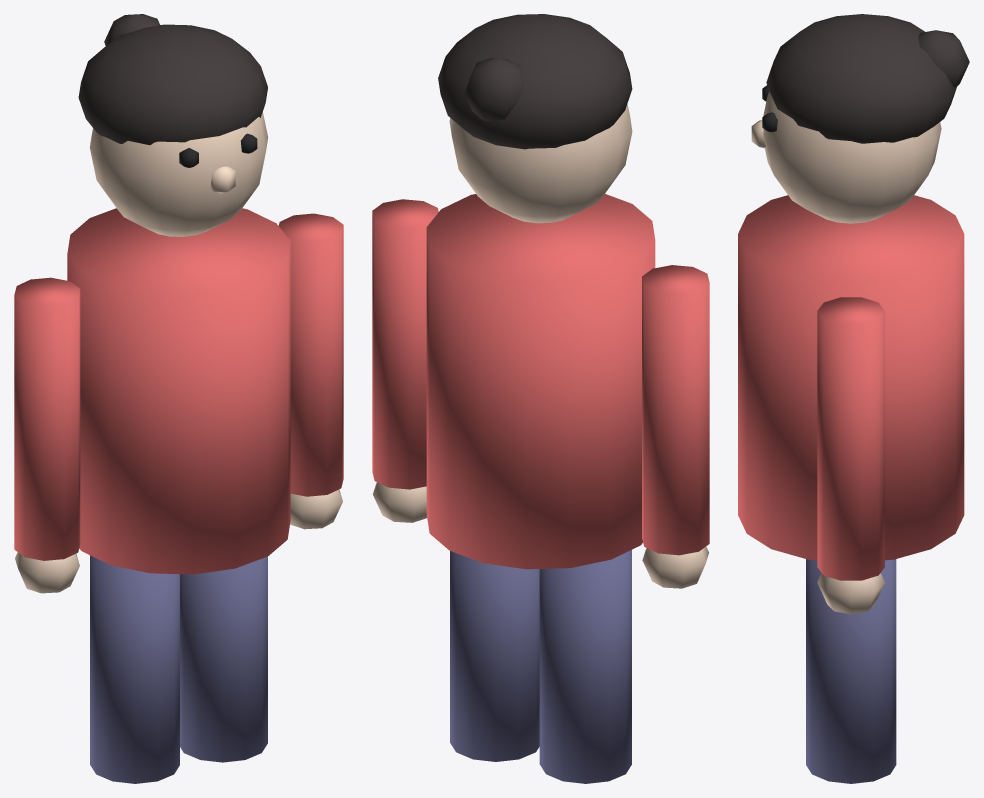
Rendered from customer_0.fbx.
3 renders of one model, left to right at view 1: azimuth 30°, elevation 25°; view 2: azimuth 150°, elevation 25°; view 3: azimuth 270°, elevation 25°, orthographic. The views are drawn at different scales.
Visible parts, largest first — view 1: customer_0; view 2: customer_0; view 3: customer_0.
Part boxes in pixels (<box>): customer_0: <box>14,14,343,783</box>; customer_0: <box>372,14,709,783</box>; customer_0: <box>738,14,969,783</box>.
Size of the model in its own units: 0.66 by 1.4 by 0.41.
